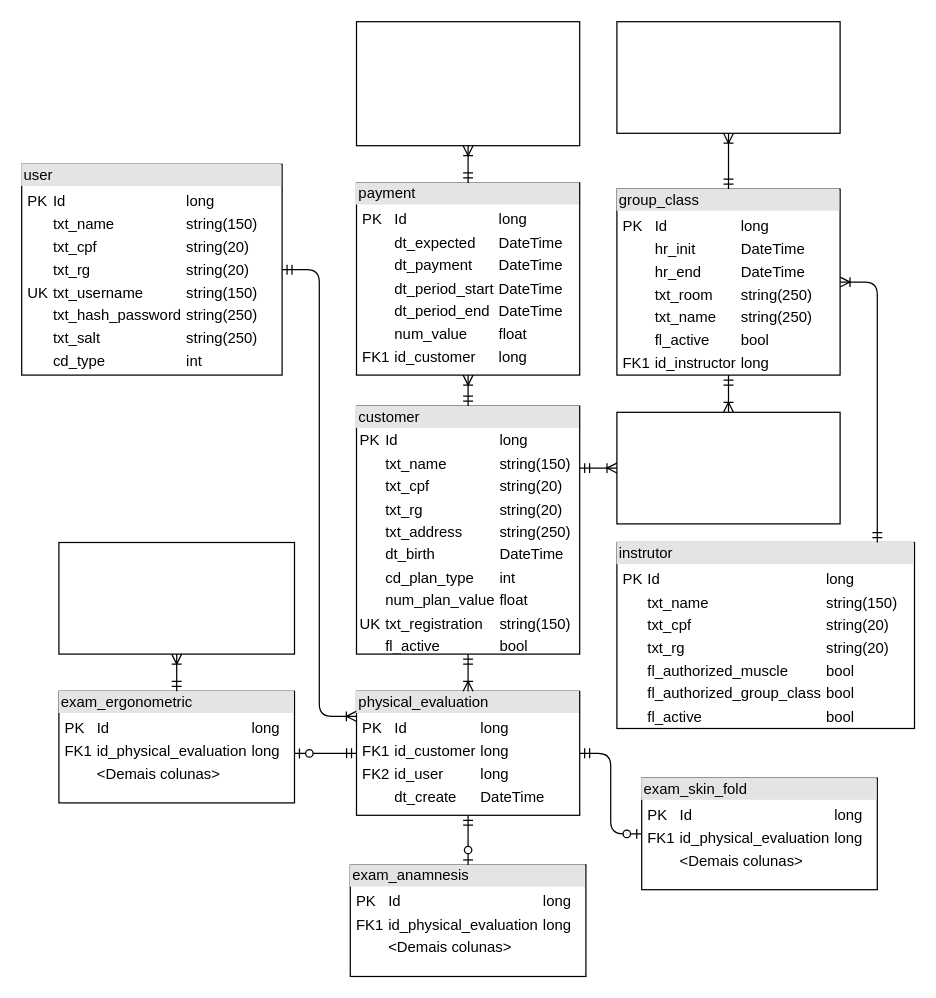
The diagram is 936 pixels wide and 998 high, and some of its shapes have lost their labels. Here are the shapes that lost their labels. From the top down, the box of each, then its label:
(355, 20, 580, 146): vacation PK Id long dt_init DateTime dt_end DateTime FK1 id_payment long
(616, 20, 840, 133): group_class_week_day PK Id long cd_week_day int FK1 id_group_class long
(616, 411, 840, 524): presence PK Id long FK1 id_customer long FK2 id_group_class long
(58, 541, 294, 654): exam_ergonometric_step PK Id long FK1 id_exam_ergonometric long
